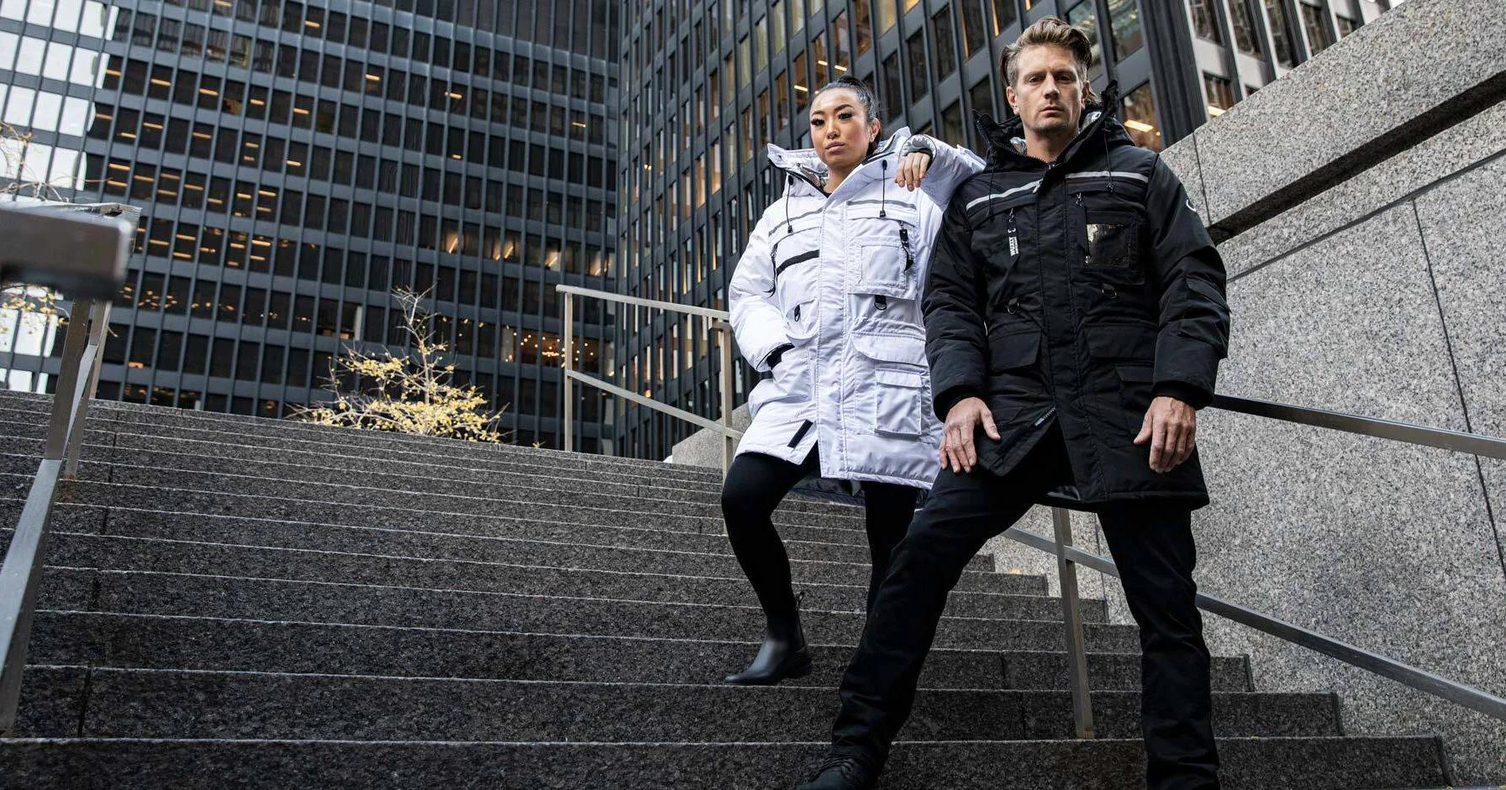coat: (918, 80, 1236, 509), (724, 126, 986, 490)
trousers: (830, 461, 1221, 765), (718, 445, 921, 650)
